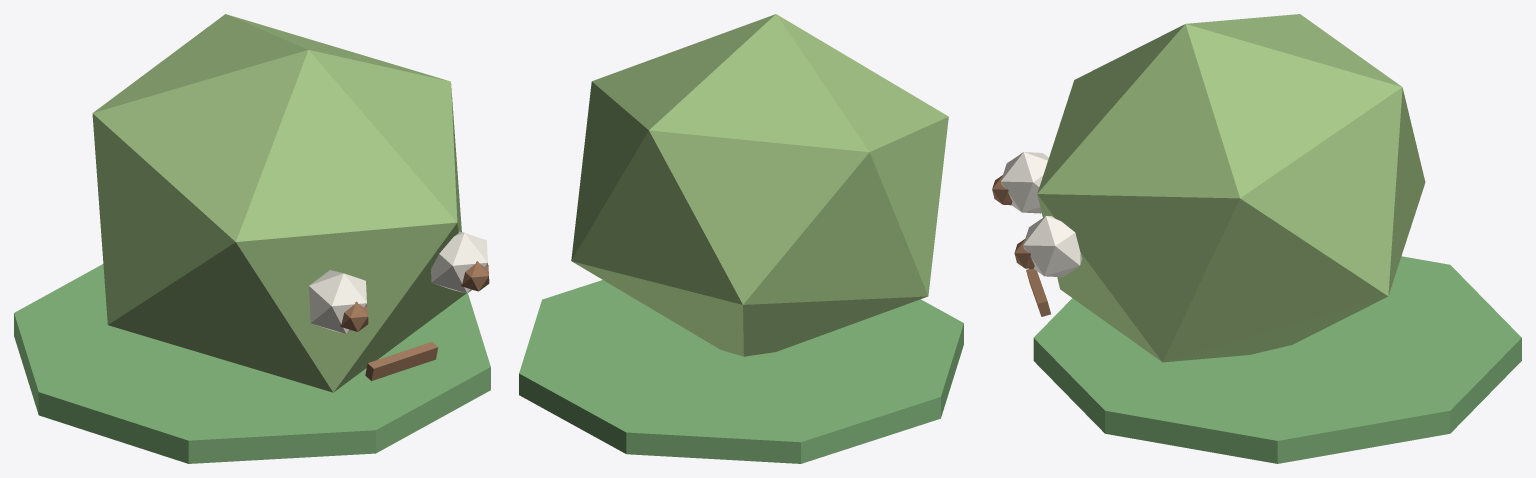
The model's file is npcpose_slime_attack_06.glb.
The picture shows the model from 3 angles, left to right: view 1: azimuth 30°, elevation 25°; view 2: azimuth 150°, elevation 25°; view 3: azimuth 270°, elevation 25°; orthographic projection. The views are drawn at different scales.
Parts seen in each view (by area): view 1: npcpose; view 2: npcpose; view 3: npcpose.
Boxes of the visible parts, x1=… form: npcpose: x1=14, y1=14, x2=490, y2=463; npcpose: x1=519, y1=14, x2=963, y2=463; npcpose: x1=992, y1=14, x2=1521, y2=463.
Size of the model in its own units: 0.96 by 0.7407 by 1.04.
